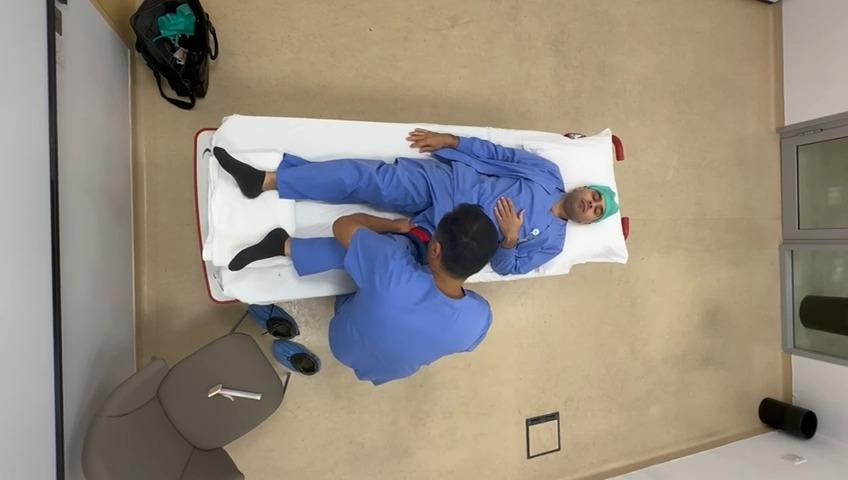bed: (197, 119, 631, 306)
patient: (214, 129, 618, 275)
prepstick: (207, 384, 260, 401)
tourniquet: (404, 227, 431, 264)
